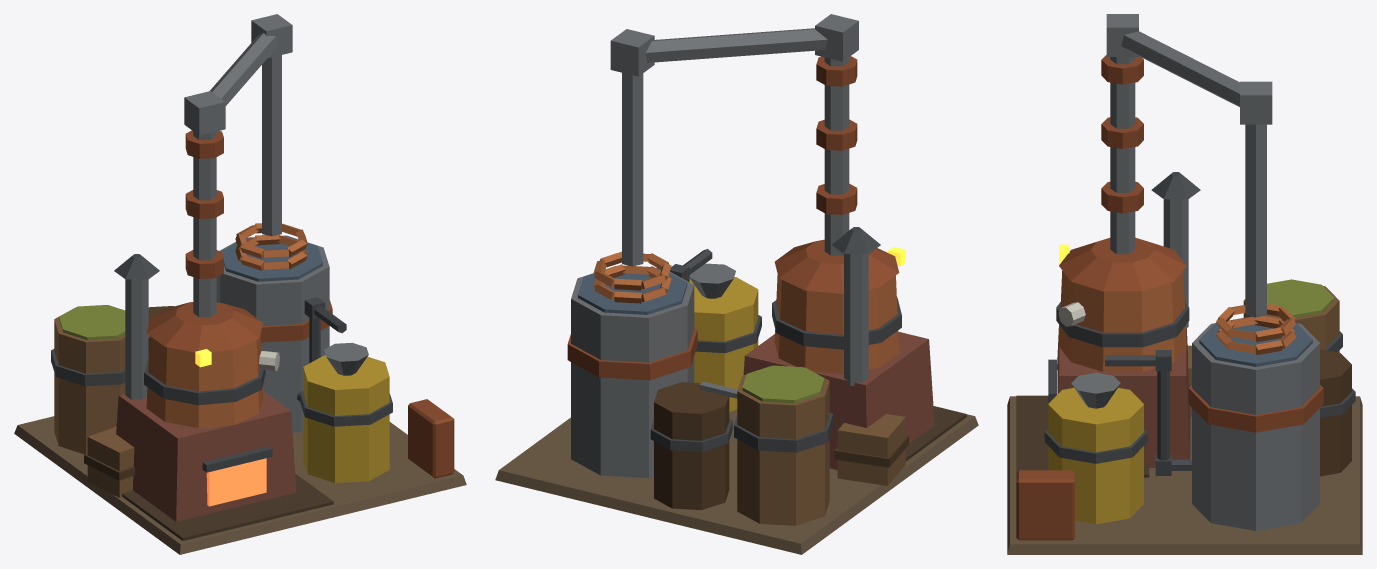
Rendered from fuel_still_l1.glb.
3 renders of one model, left to right at view 1: azimuth 30°, elevation 25°; view 2: azimuth 150°, elevation 25°; view 3: azimuth 270°, elevation 25°, orthographic. The views are drawn at different scales.
Visible parts, largest first — view 1: fuel_still_mesh; view 2: fuel_still_mesh; view 3: fuel_still_mesh.
Boxes of the visible parts, x1,y1,x2,y2 form: fuel_still_mesh: (14,14,466,554); fuel_still_mesh: (495,14,978,554); fuel_still_mesh: (1007,14,1362,554).
Size of the model in its own units: 2.04 by 2.64 by 2.
